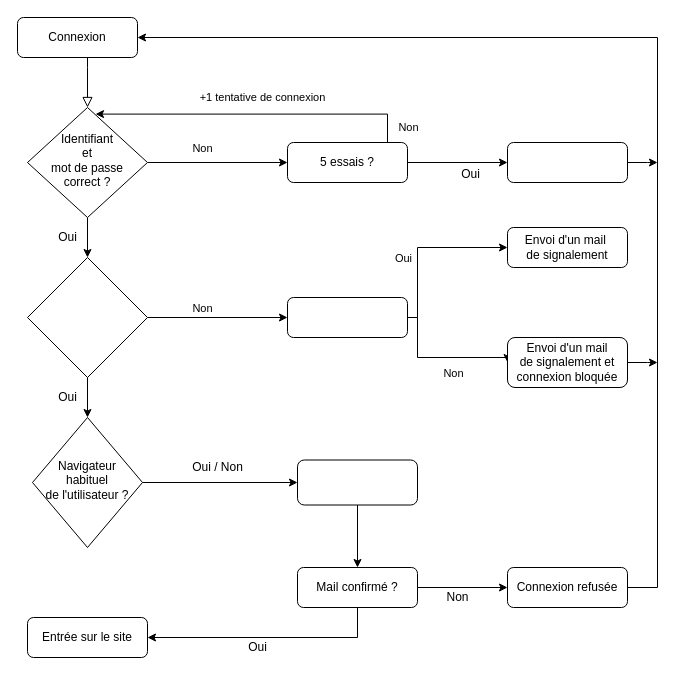
Some shapes in this 683 by 675 pixel diagram are drawn without their labels. Each missing label, with the box of its shape:
Adresse IP correspond à celle de l'utilisateur ?: (26, 256, 148, 378)
Adresse IP Française ?: (286, 296, 408, 338)
Envoi d'un mail de confirmation de connexion: (296, 459, 418, 505)
Utilisateur Bloqué pendant 5min: (506, 142, 628, 182)
